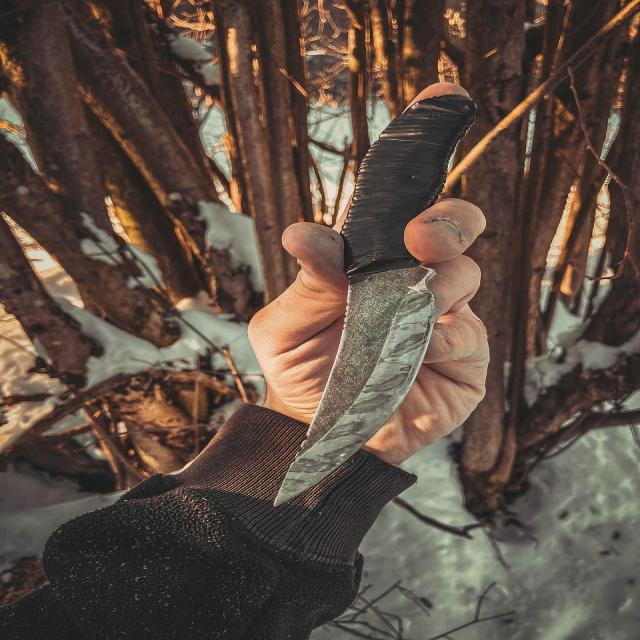Knife: (274, 94, 475, 505)
